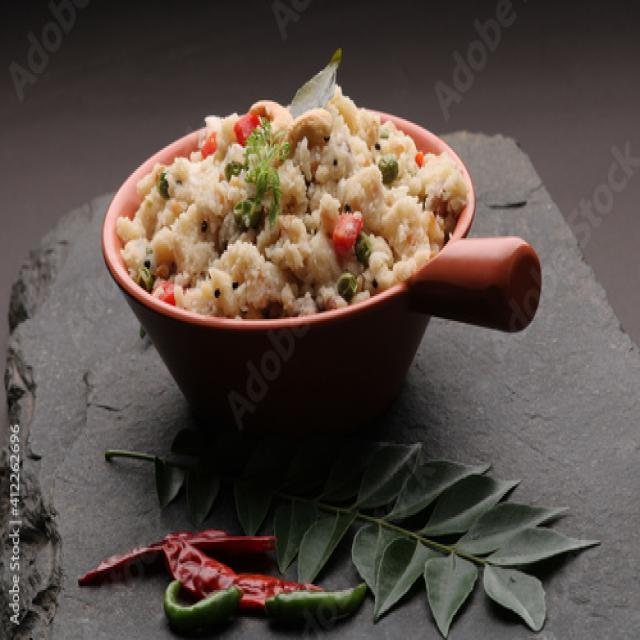UPMA: (111, 88, 472, 317)
